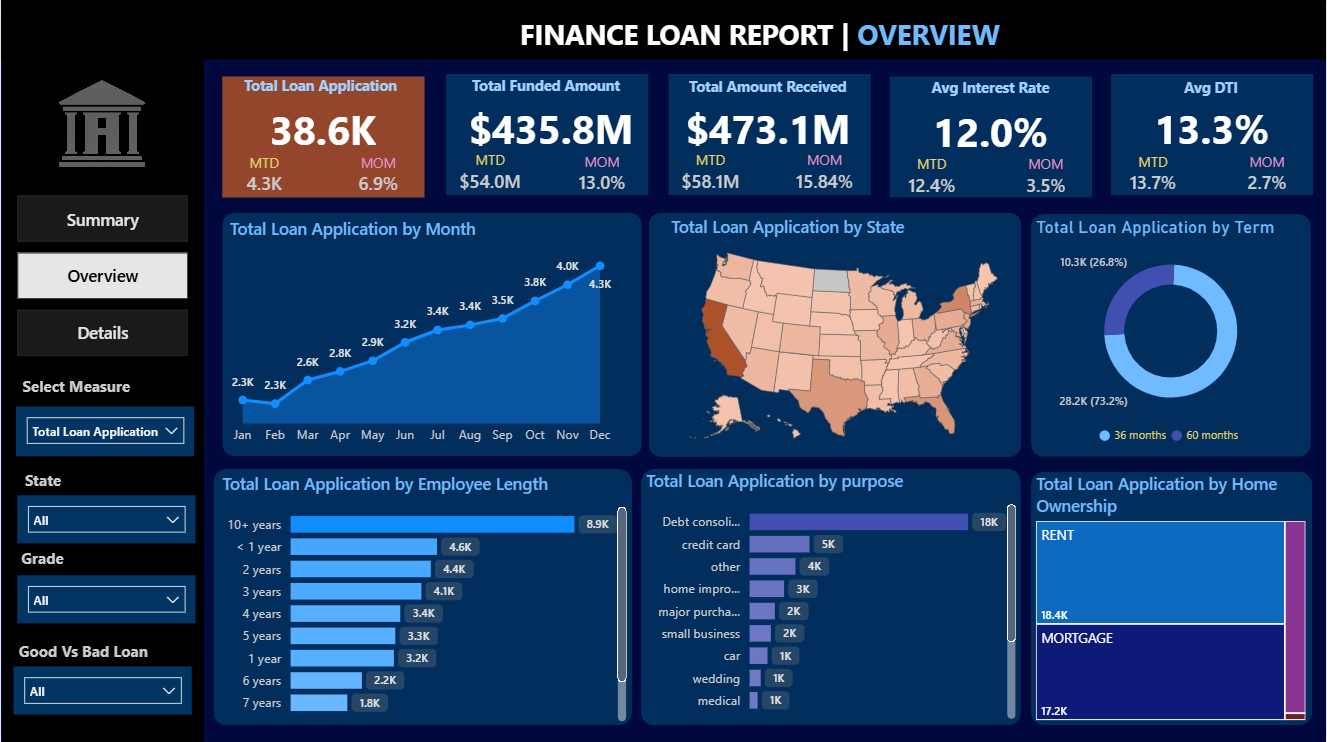

This screenshot's page, from the dashboard's own definition file:
{"tool":"powerbi","page":{"name":"Overview","canvas":[1280,720],"ordinal":1},"visuals":[{"type":"shape","box":[0,0,1280.3,58.3],"z":0},{"type":"shape","box":[1.1,58.1,194.6,662.4],"z":1000},{"type":"textbox","box":[194.6,10.6,1076.4,47.7],"z":2000},{"type":"shape","box":[644.6,72.2,195.5,117.1],"z":2000,"group":"g4"},{"type":"shape","box":[429.8,73.5,195.5,117.1],"z":2000,"group":"g3"},{"type":"shape","box":[1071.3,73.5,195.5,117.1],"z":2000,"group":"g6"},{"type":"shape","box":[213.8,74.8,195.5,117.1],"z":2000,"group":"g2"},{"type":"shape","box":[858.6,74.8,195.5,117.1],"z":2000,"group":"g5"},{"type":"shape","box":[213.2,206.5,405,235],"z":3000},{"type":"group","id":"g1","title":"Group 2","box":[205.2,69.3,1068.4,139],"z":4000},{"type":"cardVisual","fields":{"Data":["financial_loan.Avg DTI"]},"box":[1072.8,86.1,192.5,74.2],"z":4000,"group":"g6"},{"type":"cardVisual","fields":{"Data":["financial_loan.Total Amount Received"]},"box":[640.7,86.5,199.1,72.9],"z":4000,"group":"g4"},{"type":"cardVisual","fields":{"Data":["financial_loan.Total Loan Application"]},"box":[215.3,87.5,192.5,74.2],"z":4000,"group":"g2"},{"type":"cardVisual","fields":{"Data":["financial_loan.AVG. Intrest Rate"]},"box":[860.1,87.5,192.5,74.2],"z":4000,"group":"g5"},{"type":"cardVisual","fields":{"Data":["financial_loan.Total funded Amount"]},"box":[431.9,87.7,200.4,72.9],"z":4000,"group":"g3"},{"type":"cardVisual","fields":{"Data":["financial_loan.MTD Funded Amount"]},"box":[419.3,126.2,107.5,82.1],"z":5000,"group":"g3"},{"type":"cardVisual","fields":{"Data":["financial_loan.MTD Total Amount Received"]},"box":[636,130.9,98.1,72.2],"z":5000,"group":"g4"},{"type":"cardVisual","fields":{"Data":["financial_loan.MTD Avd DTI"]},"box":[1062.7,132.2,98.1,72.2],"z":5000,"group":"g6"},{"type":"cardVisual","fields":{"Data":["financial_loan.MTD Loan Application"]},"box":[205.2,133.5,98.1,72.2],"z":5000,"group":"g2"},{"type":"cardVisual","fields":{"Data":["financial_loan.MTD AVG.Intrest Rate"]},"box":[850,133.6,98.1,72.2],"z":5000,"group":"g5"},{"type":"slicer","fields":{"Values":["financial_loan.address_state"]},"box":[16.1,478.5,172,46.2],"z":5000},{"type":"cardVisual","fields":{"Data":["financial_loan.MOM Total Amount Received"]},"box":[745.1,130.9,101.8,72.2],"z":6000,"group":"g4"},{"type":"cardVisual","fields":{"Data":["financial_loan.MOM Funded Amount"]},"box":[530.3,132.2,101.8,72.2],"z":6000,"group":"g3"},{"type":"cardVisual","fields":{"Data":["financial_loan.MOM Avg DTI"]},"box":[1171.8,132.2,101.8,72.2],"z":6000,"group":"g6"},{"type":"cardVisual","fields":{"Data":["financial_loan.MOM Loan Application"]},"box":[314.3,133.5,101.8,72.2],"z":6000,"group":"g2"},{"type":"cardVisual","fields":{"Data":["financial_loan.MOM Avg. Intrest Rate"]},"box":[959.1,133.6,101.8,72.2],"z":6000,"group":"g5"},{"type":"textbox","box":[18.3,448.4,58.1,30.1],"z":6000},{"type":"slicer","fields":{"Values":["financial_loan.grade"]},"box":[16.1,555.9,172,46.2],"z":7000},{"type":"group","id":"g2","title":"Group 1","box":[205.2,69.3,210.9,136.4],"z":8000,"group":"g1"},{"type":"textbox","box":[208.9,69.3,199.1,42.4],"z":8000,"group":"g2"},{"type":"textbox","box":[427.7,69.7,197.8,39.7],"z":8000,"group":"g3"},{"type":"textbox","box":[641.5,70.2,196.5,38.4],"z":8000,"group":"g4"},{"type":"textbox","box":[856.2,71.2,199.1,39.7],"z":8000,"group":"g5"},{"type":"textbox","box":[1068.7,72.2,197.8,31.8],"z":8000,"group":"g6"},{"type":"textbox","box":[15.1,524.7,74.2,30.1],"z":8000},{"type":"group","id":"g3","title":"Group 1","box":[419.3,69.7,213.1,138.6],"z":9000,"group":"g1"},{"type":"slicer","fields":{"Values":["financial_loan.Good Vs Bad Loan"]},"box":[11.8,644.1,172,46.2],"z":9000},{"type":"group","id":"g4","title":"Group 1","box":[636,70.2,210.9,132.9],"z":10000,"group":"g1"},{"type":"textbox","box":[11.8,614,146.2,30.1],"z":10000},{"type":"group","id":"g5","title":"Group 1","box":[850,71.2,210.9,134.6],"z":11000,"group":"g1"},{"type":"areaChart","fields":{"Y":["financial_loan.Total Loan Application"],"Category":["Calender Table.Month"]},"box":[216,209.9,401.7,229.2],"z":11000},{"type":"group","id":"g6","title":"Group 1","box":[1062.7,72.2,210.9,132.2],"z":12000,"group":"g1"},{"type":"slicer","fields":{"Values":["Select Measure.Select Measure"]},"box":[15.1,393.5,172,48.4],"z":12000},{"type":"textbox","box":[16.1,358.1,135.5,31.2],"z":13000},{"type":"shape","box":[994.3,207.9,270.1,234.3],"z":14000},{"type":"shape","box":[624.9,206.5,360.1,235.7],"z":15000},{"type":"shapeMap","fields":{"Value":["financial_loan.Total Loan Application"],"Category":["financial_loan.address_state"]},"box":[642.1,209.2,342.9,230.4],"z":16000},{"type":"donutChart","fields":{"Y":["financial_loan.Total Loan Application"],"Category":["financial_loan.term"]},"box":[994.3,210.5,270.1,229],"z":17000},{"type":"shape","box":[205.2,454.1,403.8,247.6],"z":18000},{"type":"shape","box":[618.3,454.1,366.7,247.6],"z":19000},{"type":"barChart","fields":{"Y":["financial_loan.Total Loan Application"],"Category":["financial_loan.emp_length"]},"box":[209.2,455.4,399.8,246.3],"z":20000},{"type":"shape","box":[994.3,455.4,271.4,244.9],"z":21000},{"type":"barChart","fields":{"Y":["financial_loan.Total Loan Application"],"Category":["financial_loan.purpose"]},"box":[618.3,454.1,366.7,246.3],"z":22000},{"type":"treemap","fields":{"Values":["financial_loan.Total Loan Application"],"Group":["financial_loan.home_ownership"]},"box":[994.3,455.4,270.1,244.9],"z":23000},{"type":"pageNavigator","box":[16.1,189.2,165.6,157],"z":24000},{"type":"image","box":[45.2,69.9,105.4,106.5],"z":25000}]}

Visuals, with their boxes in screenshot pixels (x1, y1, x2, y2), scaled from the page's 1280x720 canvas onto the 1327x742 screenshot:
shape: crop(0, 0, 1326, 60)
shape: crop(1, 60, 203, 741)
textbox: crop(202, 11, 1318, 60)
shape: crop(668, 74, 871, 195)
shape: crop(446, 76, 648, 196)
shape: crop(1111, 76, 1313, 196)
shape: crop(222, 77, 424, 198)
shape: crop(890, 77, 1093, 198)
shape: crop(221, 213, 641, 455)
"Group 2" group: crop(213, 71, 1320, 215)
cardVisual - financial_loan.Avg DTI: crop(1112, 89, 1312, 165)
cardVisual - financial_loan.Total Amount Received: crop(664, 89, 871, 164)
cardVisual - financial_loan.Total Loan Application: crop(223, 90, 423, 167)
cardVisual - financial_loan.AVG. Intrest Rate: crop(892, 90, 1091, 167)
cardVisual - financial_loan.Total funded Amount: crop(448, 90, 656, 166)
cardVisual - financial_loan.MTD Funded Amount: crop(435, 130, 546, 215)
cardVisual - financial_loan.MTD Total Amount Received: crop(659, 135, 761, 209)
cardVisual - financial_loan.MTD Avd DTI: crop(1102, 136, 1203, 211)
cardVisual - financial_loan.MTD Loan Application: crop(213, 138, 314, 212)
cardVisual - financial_loan.MTD AVG.Intrest Rate: crop(881, 138, 983, 212)
slicer - financial_loan.address_state: crop(17, 493, 195, 541)
cardVisual - financial_loan.MOM Total Amount Received: crop(772, 135, 878, 209)
cardVisual - financial_loan.MOM Funded Amount: crop(550, 136, 655, 211)
cardVisual - financial_loan.MOM Avg DTI: crop(1215, 136, 1320, 211)
cardVisual - financial_loan.MOM Loan Application: crop(326, 138, 431, 212)
cardVisual - financial_loan.MOM Avg. Intrest Rate: crop(994, 138, 1100, 212)
textbox: crop(19, 462, 79, 493)
slicer - financial_loan.grade: crop(17, 573, 195, 620)
"Group 1" group: crop(213, 71, 431, 212)
textbox: crop(217, 71, 423, 115)
textbox: crop(443, 72, 648, 113)
textbox: crop(665, 72, 869, 112)
textbox: crop(888, 73, 1094, 114)
textbox: crop(1108, 74, 1313, 107)
textbox: crop(16, 541, 93, 572)
"Group 1" group: crop(435, 72, 656, 215)
slicer - financial_loan.Good Vs Bad Loan: crop(12, 664, 191, 711)
"Group 1" group: crop(659, 72, 878, 209)
textbox: crop(12, 633, 164, 664)
"Group 1" group: crop(881, 73, 1100, 212)
areaChart - financial_loan.Total Loan Application x Calender Table.Month: crop(224, 216, 640, 453)
"Group 1" group: crop(1102, 74, 1320, 211)
slicer - Select Measure.Select Measure: crop(16, 406, 194, 455)
textbox: crop(17, 369, 157, 401)
shape: crop(1031, 214, 1311, 456)
shape: crop(648, 213, 1021, 456)
shapeMap - financial_loan.Total Loan Application x financial_loan.address_state: crop(666, 216, 1021, 453)
donutChart - financial_loan.Total Loan Application x financial_loan.term: crop(1031, 217, 1311, 453)
shape: crop(213, 468, 631, 723)
shape: crop(641, 468, 1021, 723)
barChart - financial_loan.Total Loan Application x financial_loan.emp_length: crop(217, 469, 631, 723)
shape: crop(1031, 469, 1312, 722)
barChart - financial_loan.Total Loan Application x financial_loan.purpose: crop(641, 468, 1021, 722)
treemap - financial_loan.Total Loan Application x financial_loan.home_ownership: crop(1031, 469, 1311, 722)
pageNavigator: crop(17, 195, 188, 357)
image: crop(47, 72, 156, 182)
